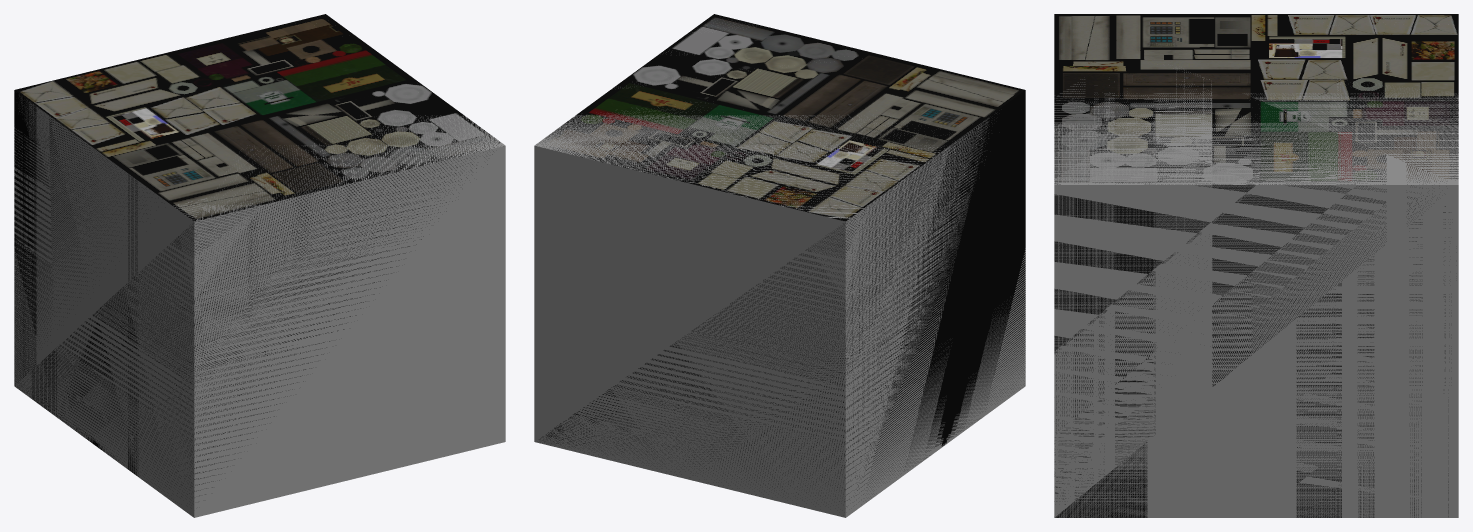
File: take_out_box_02.FBX
3 renders of one model, left to right at view 1: azimuth 30°, elevation 25°; view 2: azimuth 150°, elevation 25°; view 3: azimuth 270°, elevation 25°, orthographic. The views are drawn at different scales.
Visible parts, largest first — view 1: bounds, colbox-1; view 2: bounds, colbox-1; view 3: bounds, colbox-1.
Boxes of the visible parts, x1,y1,x2,y2 form: bounds: (14, 92, 505, 517); colbox-1: (14, 14, 499, 496); bounds: (534, 25, 1025, 517); colbox-1: (539, 14, 1025, 506); bounds: (1054, 24, 1458, 517); colbox-1: (1054, 14, 1458, 517).
Size of the model in its own units: 27.02 by 24.56 by 27.02.
